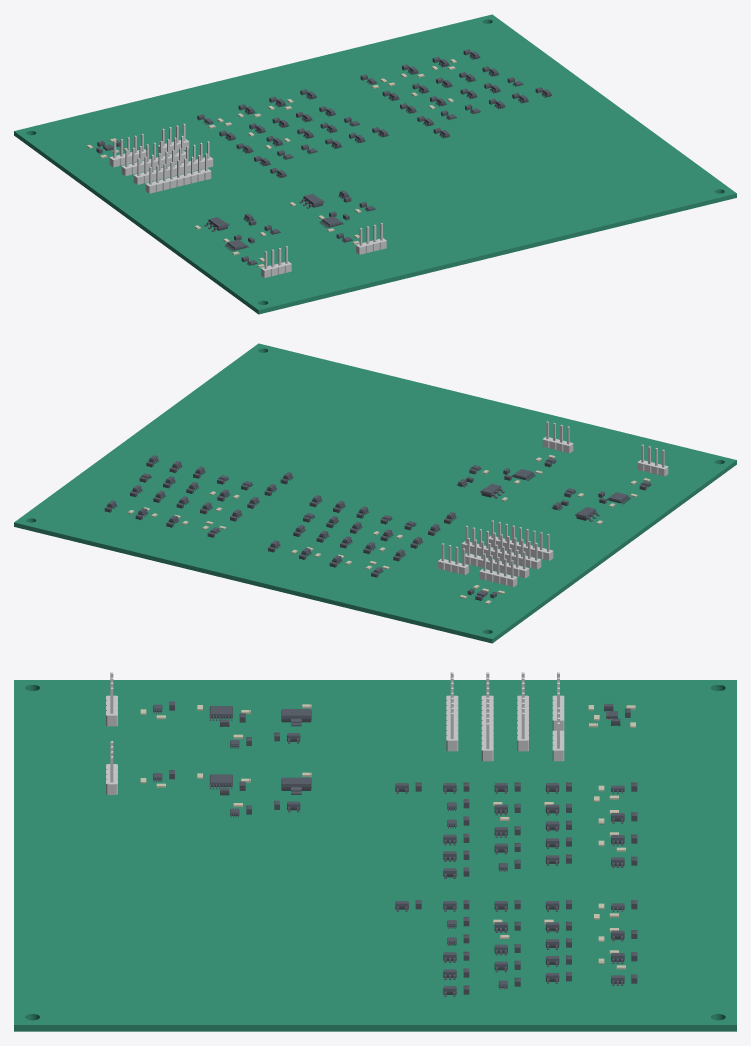
Rendered from current-driver.glb.
The picture shows the model from 3 angles, top to bottom: view 1: azimuth 30°, elevation 25°; view 2: azimuth 150°, elevation 25°; view 3: azimuth 270°, elevation 25°; orthographic projection. The views are drawn at different scales.
Visible parts, largest first — view 1: PCB, J20004, J20005, J20003, J20001, J20200, J20100; view 2: PCB, J20004, J20003, J20005, J20001, J20002, J20200, J20100; view 3: PCB, J20004, J20005, J20003.
Part boxes in pixels (box(x1,y1,x2,y2)): PCB: box(14, 14, 736, 314); J20004: box(133, 141, 213, 184); J20005: box(145, 153, 211, 193); J20003: box(121, 135, 185, 175); J20001: box(109, 133, 146, 167); J20200: box(356, 223, 386, 254); J20100: box(261, 246, 291, 277); PCB: box(14, 343, 736, 643); J20004: box(461, 525, 541, 569); J20003: box(465, 538, 529, 578); J20005: box(489, 520, 553, 560); J20001: box(479, 553, 517, 586); J20002: box(438, 543, 468, 574); J20200: box(542, 421, 573, 453); J20100: box(637, 444, 668, 476); PCB: box(14, 680, 736, 1031); J20004: box(481, 672, 493, 761); J20005: box(446, 672, 458, 751); J20003: box(517, 672, 528, 751).
Bounding box in the file's own units: 0.175 × 0.0115 × 0.155.
